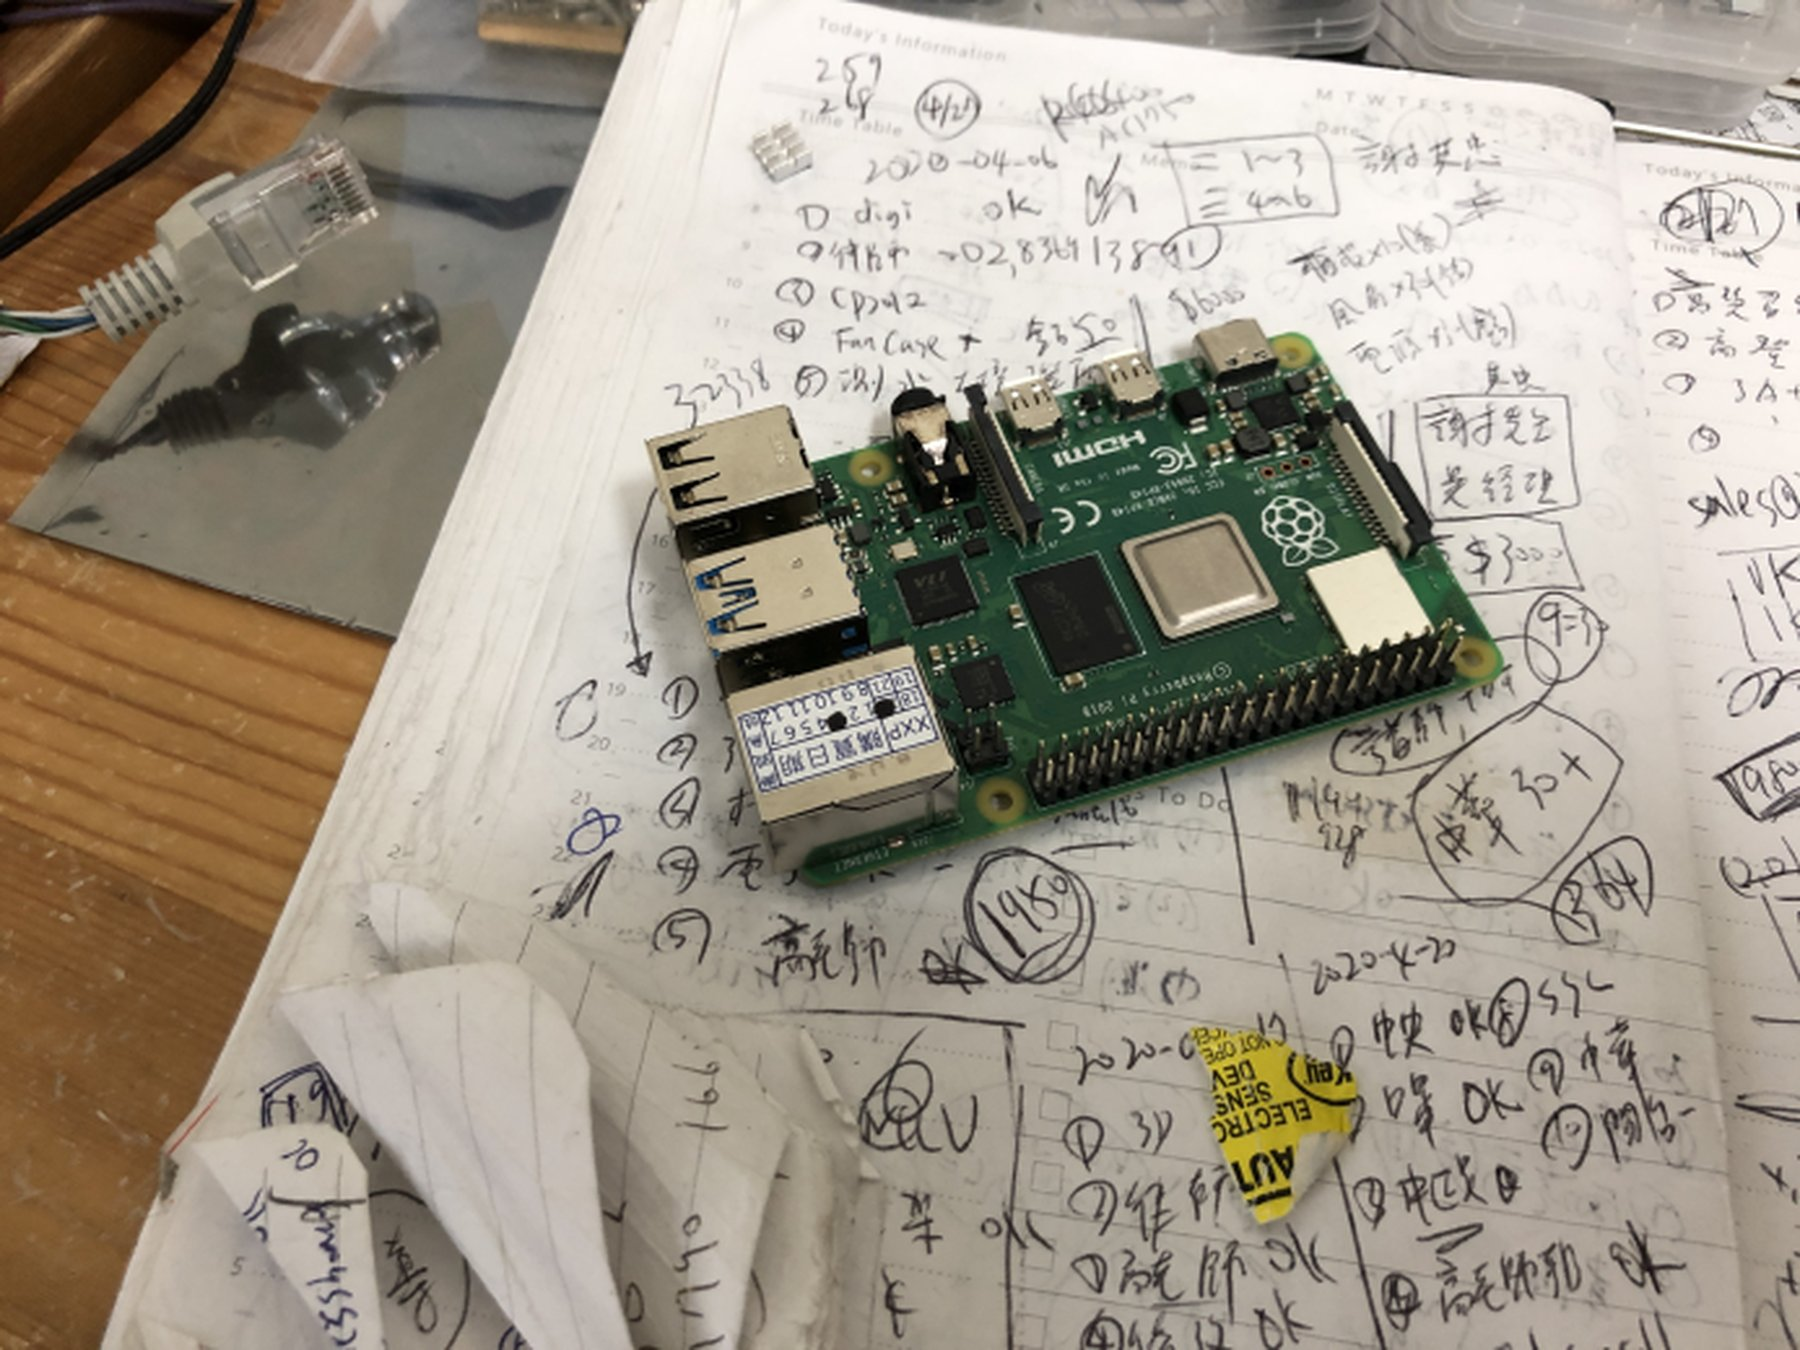pi: (631, 303, 1508, 903)
